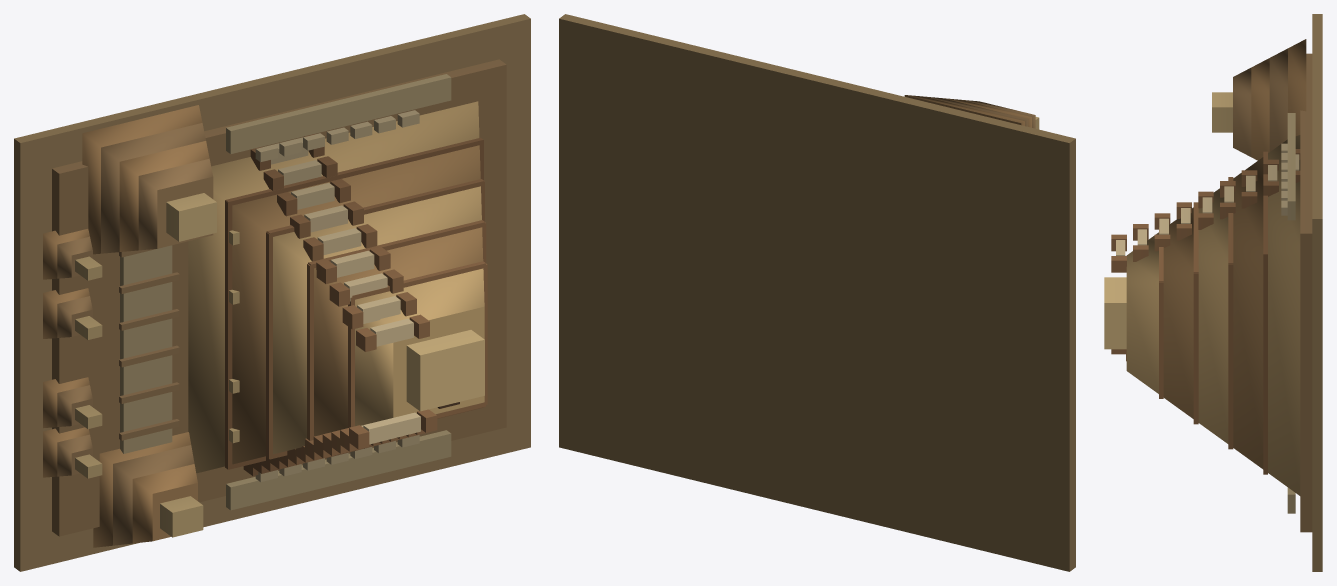
File: teotihuacan.glb
The picture shows the model from 3 angles, left to right: view 1: azimuth 30°, elevation 25°; view 2: azimuth 150°, elevation 25°; view 3: azimuth 270°, elevation 25°; orthographic projection. The views are drawn at different scales.
Parts seen in each view (by area): view 1: part-plazaShade, part-ground, part-pyramid, part-pyramidShade, part-talud, part-plaza, part-temple, part-templeLight, part-stair; view 2: part-ground, part-temple, part-plazaShade; view 3: part-pyramid, part-pyramidShade, part-plazaShade, part-talud, part-ground, part-temple, part-templeLight, part-stair, part-plaza.
Boxes of the visible parts, left/top/right/bottom form: part-plazaShade: left=52, top=59, right=506, bottom=545; part-ground: left=14, top=14, right=530, bottom=571; part-pyramid: left=188, top=101, right=484, bottom=473; part-pyramidShade: left=232, top=145, right=483, bottom=464; part-talud: left=225, top=133, right=487, bottom=475; part-plaza: left=120, top=74, right=451, bottom=510; part-temple: left=43, top=105, right=209, bottom=547; part-templeLight: left=75, top=193, right=484, bottom=537; part-stair: left=255, top=110, right=420, bottom=481; part-ground: left=559, top=14, right=1075, bottom=571; part-temple: left=904, top=95, right=1031, bottom=127; part-plazaShade: left=925, top=96, right=1035, bottom=128; part-pyramid: left=1126, top=135, right=1300, bottom=495; part-pyramidShade: left=1163, top=157, right=1263, bottom=469; part-plazaShade: left=1233, top=48, right=1312, bottom=532; part-talud: left=1111, top=149, right=1300, bottom=474; part-ground: left=1312, top=14, right=1322, bottom=571; part-temple: left=1251, top=39, right=1306, bottom=160; part-templeLight: left=1104, top=92, right=1232, bottom=349; part-stair: left=1116, top=143, right=1299, bottom=255; part-plaza: left=1287, top=113, right=1295, bottom=513.
Bounding box in the file's own units: 1.62 × 1.3 × 0.73.
